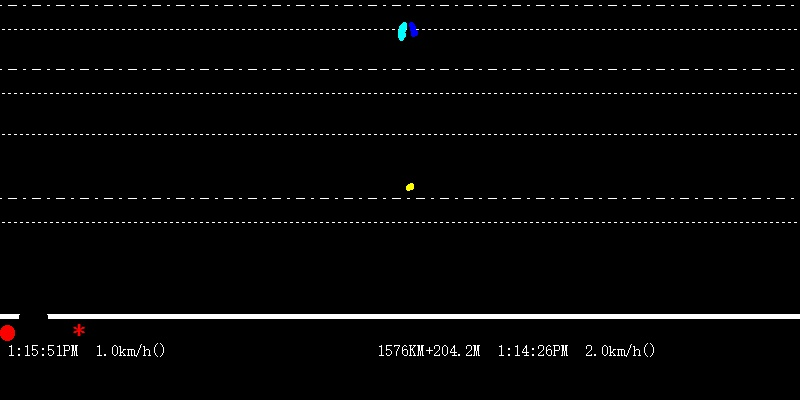face_1: (396, 19, 407, 45), (408, 20, 420, 40)
star: (70, 320, 86, 340)
